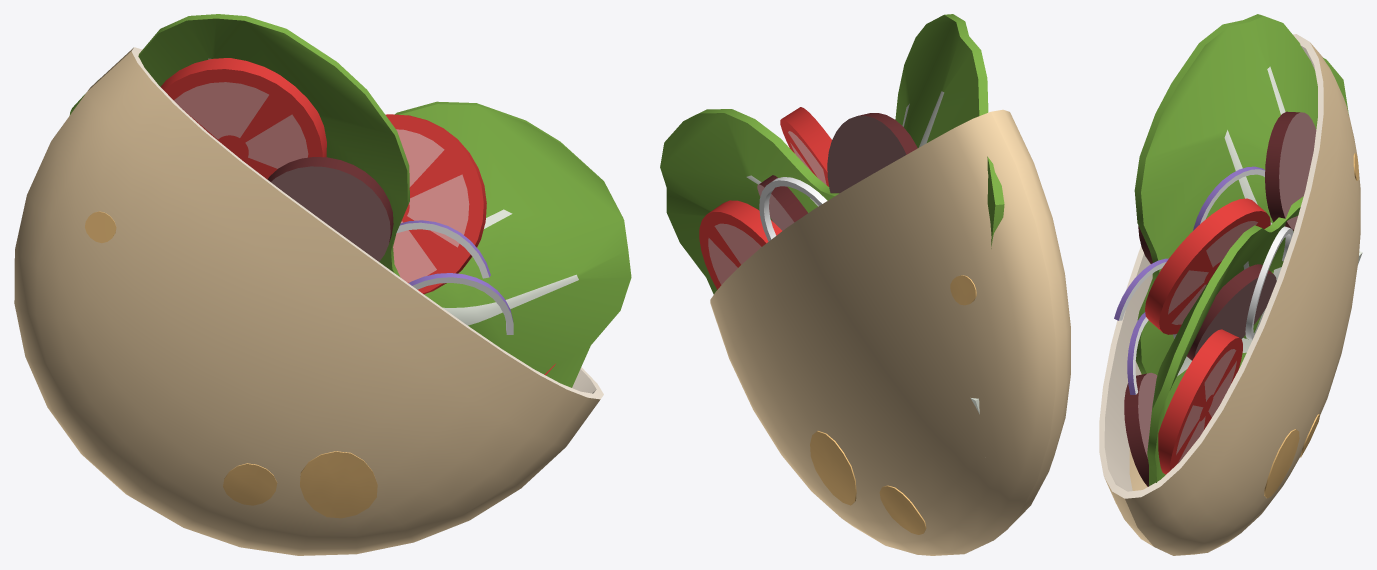
Rendered from stuffed_flatbread.glb.
3 views of the same model, side by side, from view 1: azimuth 30°, elevation 25°; view 2: azimuth 150°, elevation 25°; view 3: azimuth 270°, elevation 25° (orthographic). The views are drawn at different scales.
Parts seen in each view (by area): view 1: Cube.387; view 2: Cube.387; view 3: Cube.387.
Boxes of the visible parts, x1,y1,x2,y2 form: Cube.387: (14,14,631,555); Cube.387: (660,14,1070,555); Cube.387: (1099,14,1362,555).
Size of the model in its own units: 2.26 by 2.33 by 1.17.
1 material, 1 textured.
